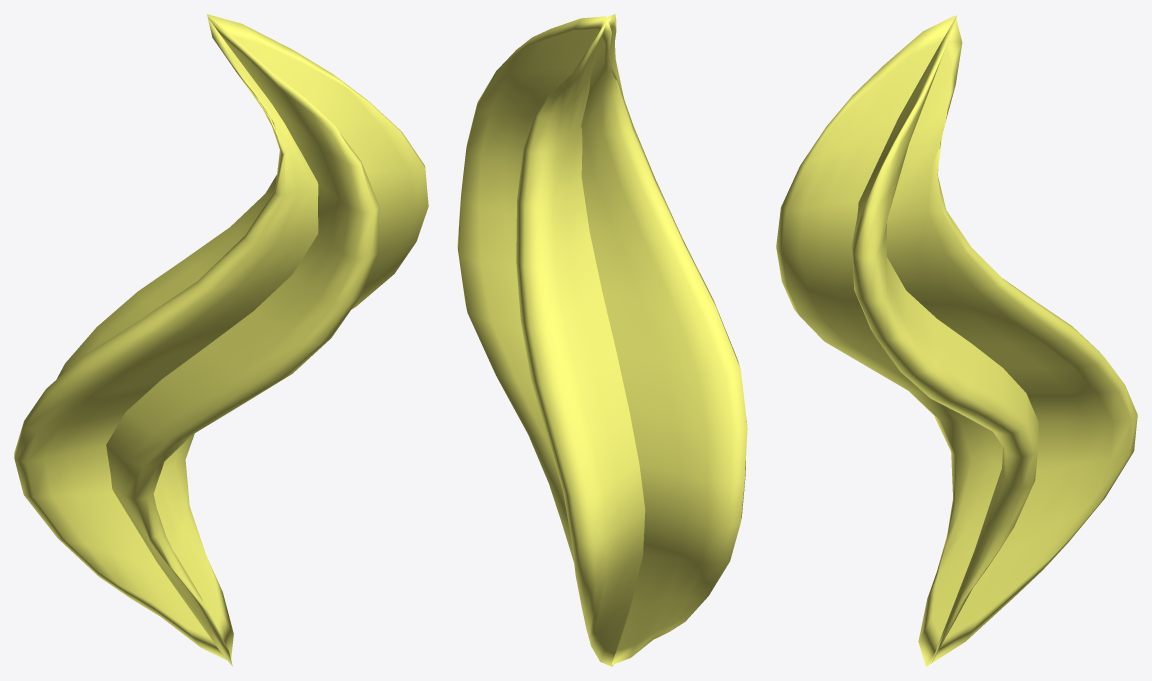
The model's file is PatternMesh.fbx.
3 views of the same model, side by side, from view 1: azimuth 30°, elevation 25°; view 2: azimuth 150°, elevation 25°; view 3: azimuth 270°, elevation 25° (orthographic). The views are drawn at different scales.
Parts seen in each view (by area): view 1: polySurface5_polySurface6; view 2: polySurface5_polySurface6; view 3: polySurface5_polySurface6.
Part boxes in pixels (<box>): polySurface5_polySurface6: <box>14,14,428,666</box>; polySurface5_polySurface6: <box>457,14,747,666</box>; polySurface5_polySurface6: <box>776,14,1137,666</box>.
Bounding box in the file's own units: 0.1861 × 0.3376 × 0.1708.
